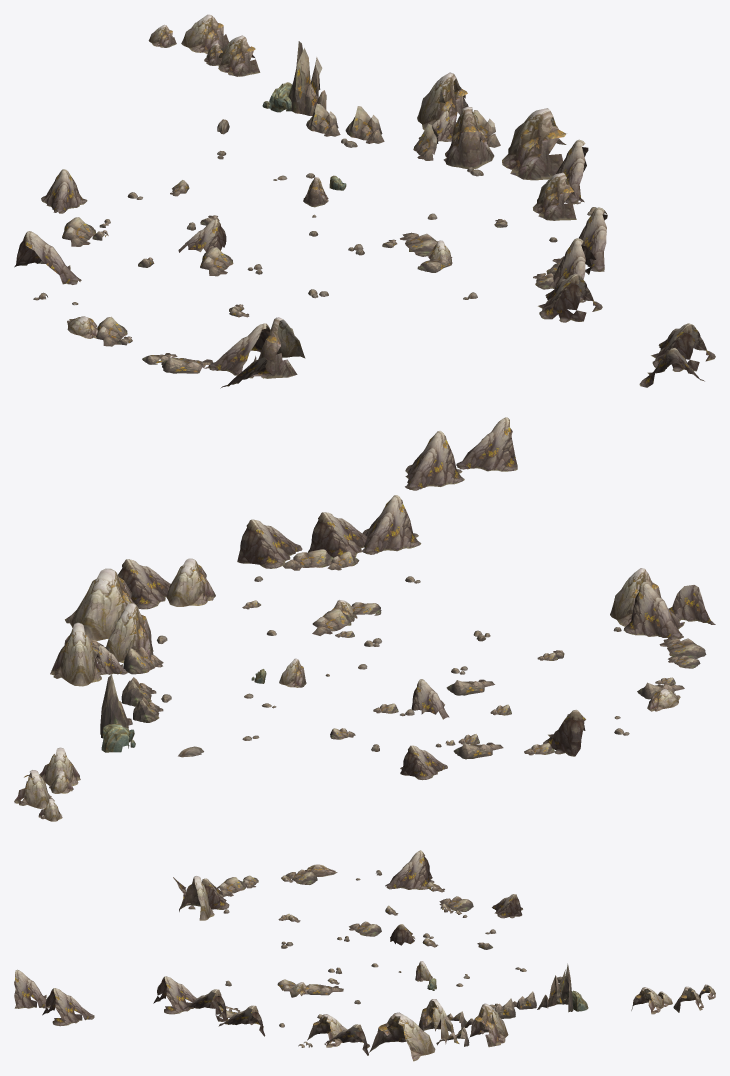
Rendered from combat_01_stone.FBX.
3 views of the same model, one above another, from view 1: azimuth 30°, elevation 25°; view 2: azimuth 150°, elevation 25°; view 3: azimuth 270°, elevation 25° (orthographic). The views are drawn at different scales.
Parts seen in each view (by area): view 1: stone, stone003, s8, stone2, stone005, stone001, stone002, stone006, s10, s1, stone008; view 2: stone, stone003, stone001, stone005, stone002, stone006, s8, stone2, s6, stone004, s1, stone008; view 3: stone, stone2, stone003, s8, stone002, stone001, s1, stone006, stone005, stone008.
Boxes of the visible parts, bbox=[...] form: stone: bbox=[35, 14, 715, 387]; stone003: bbox=[538, 273, 602, 322]; s8: bbox=[533, 172, 584, 220]; stone2: bbox=[14, 231, 81, 284]; stone005: bbox=[208, 323, 270, 378]; stone001: bbox=[579, 207, 607, 271]; stone002: bbox=[548, 238, 595, 302]; stone006: bbox=[546, 139, 588, 204]; s10: bbox=[345, 106, 384, 143]; s1: bbox=[142, 353, 212, 373]; stone008: bbox=[178, 219, 226, 252]; stone: bbox=[14, 417, 684, 821]; stone003: bbox=[362, 495, 421, 554]; stone001: bbox=[237, 519, 302, 568]; stone005: bbox=[623, 582, 684, 639]; stone002: bbox=[308, 512, 367, 557]; stone006: bbox=[118, 559, 170, 609]; s8: bbox=[166, 558, 215, 606]; stone2: bbox=[543, 709, 585, 756]; s6: bbox=[283, 549, 359, 570]; stone004: bbox=[669, 585, 715, 624]; s1: bbox=[659, 638, 706, 668]; stone008: bbox=[411, 679, 449, 719]; stone: bbox=[14, 864, 715, 1061]; stone2: bbox=[385, 850, 434, 889]; stone003: bbox=[153, 976, 196, 1014]; s8: bbox=[307, 1014, 346, 1047]; stone002: bbox=[182, 989, 228, 1021]; stone001: bbox=[218, 1005, 265, 1036]; s1: bbox=[217, 875, 258, 896]; stone006: bbox=[324, 1024, 369, 1055]; stone005: bbox=[201, 878, 229, 909]; stone008: bbox=[390, 924, 414, 945].
Bounding box in the file's own units: 180 × 21.86 × 276.
